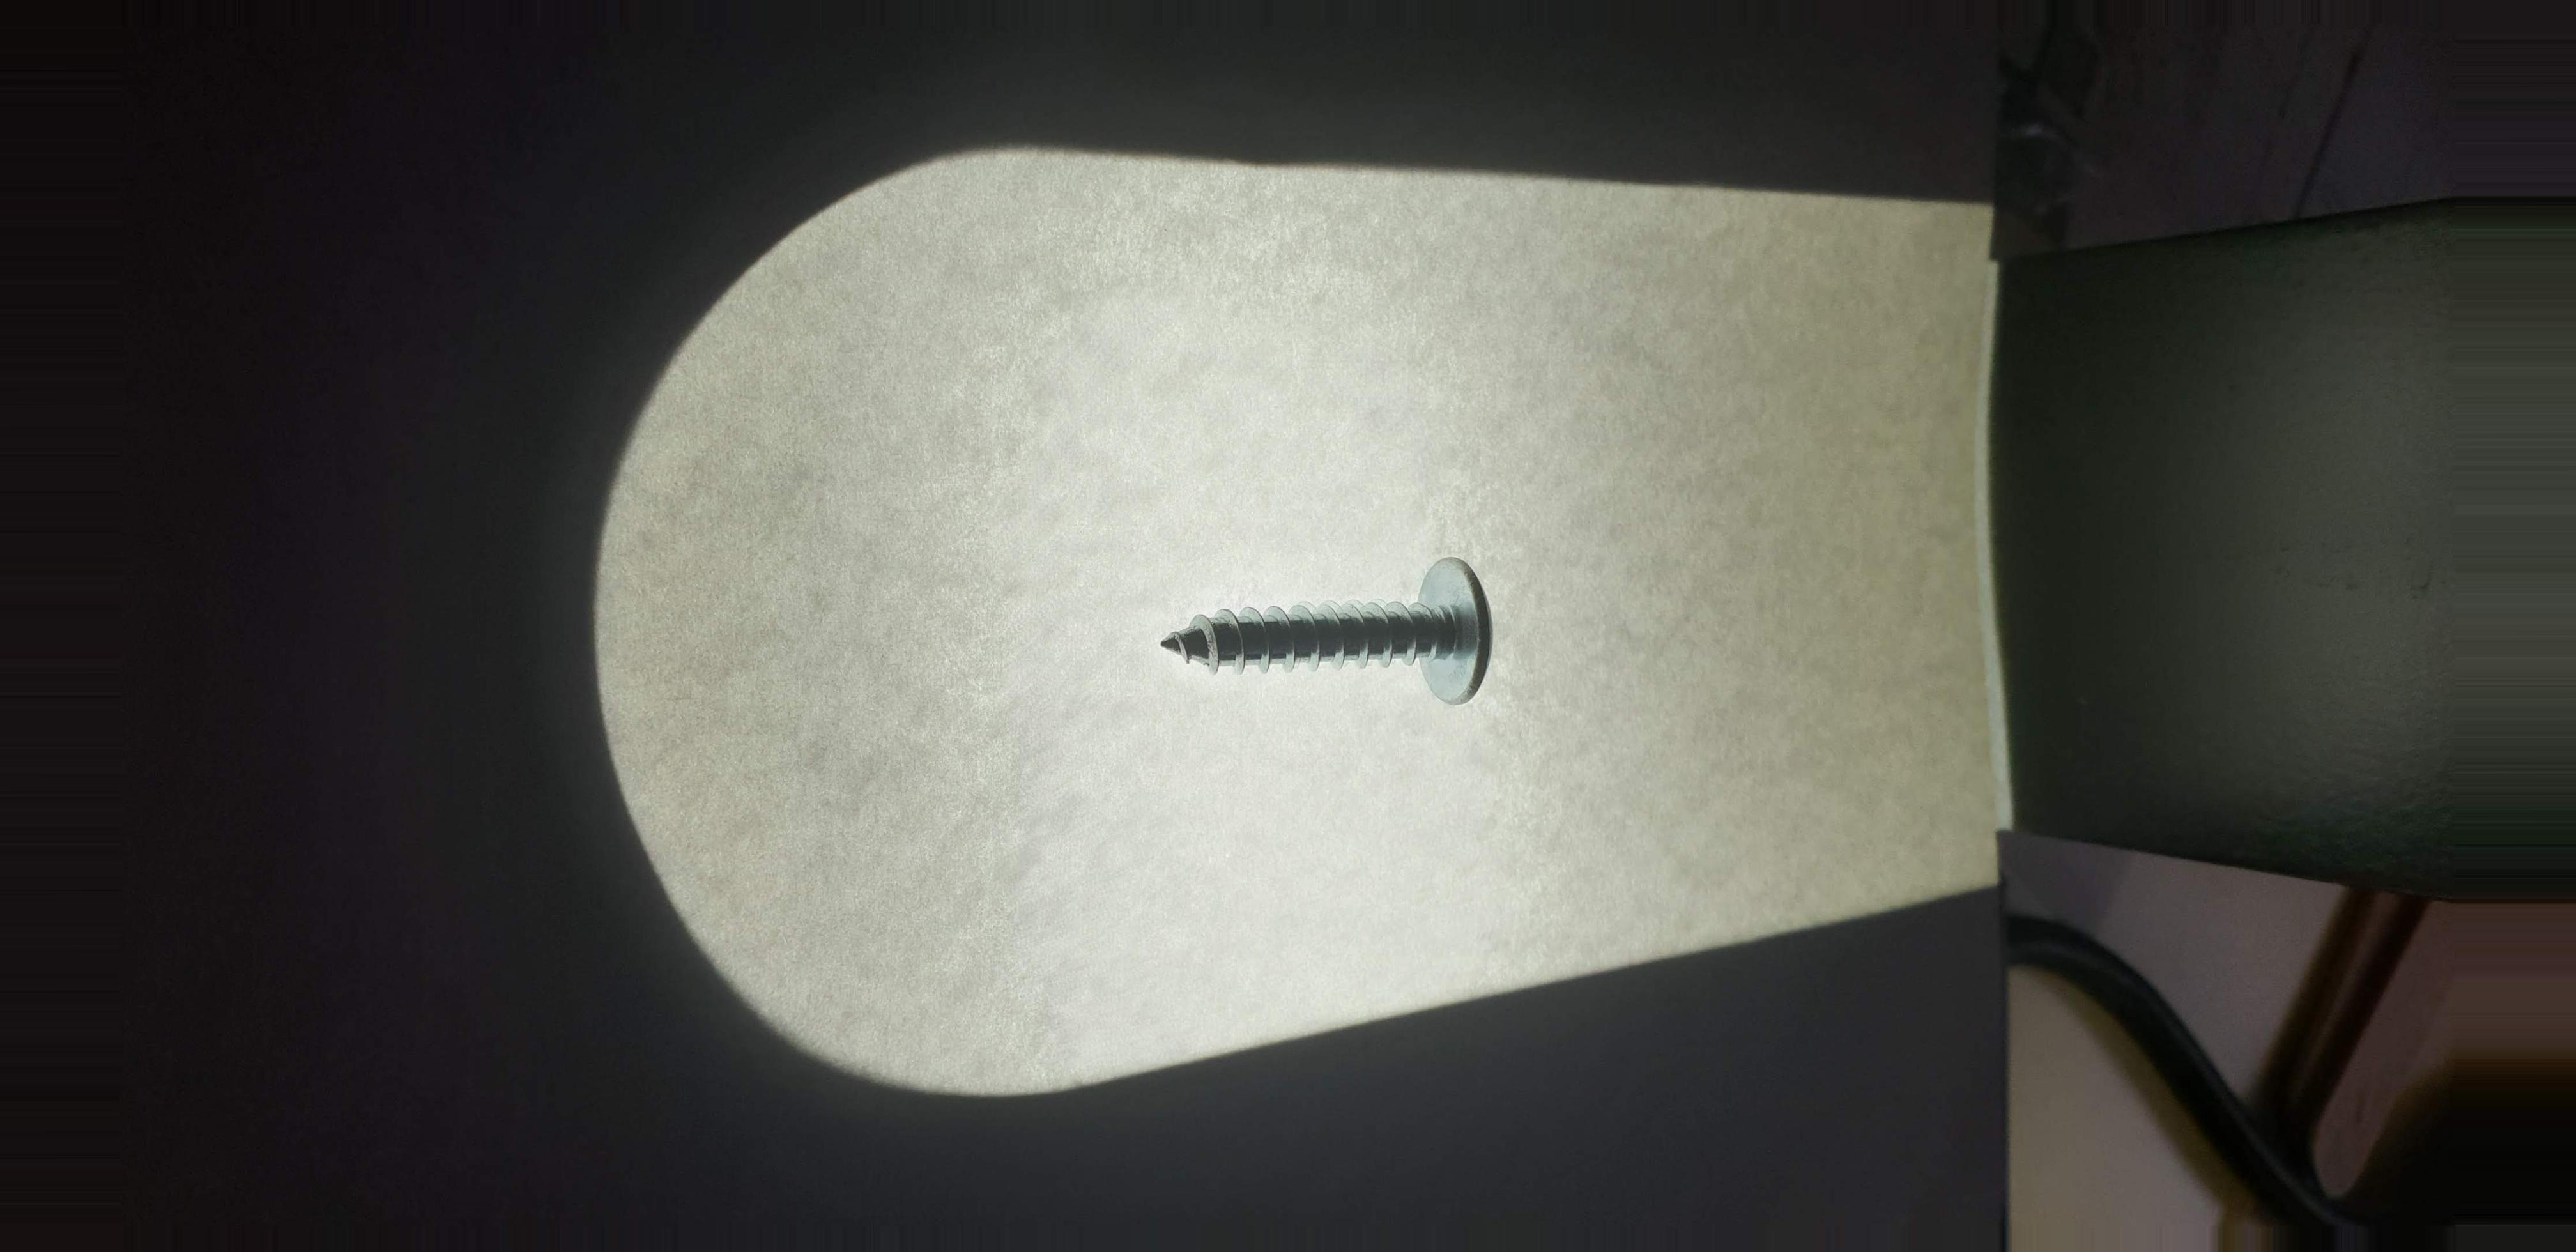S002: (1120, 536, 1561, 736)
